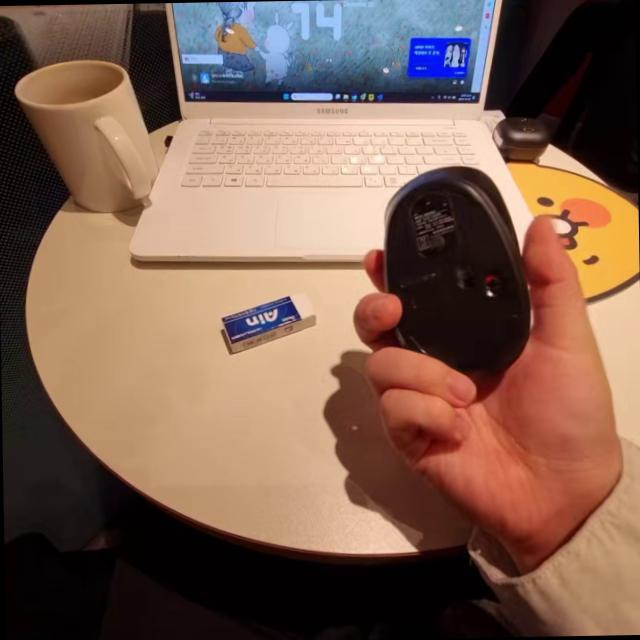eraser: (214, 284, 319, 376)
grab_mouse: (345, 156, 640, 559)
mouse: (363, 152, 524, 368)
